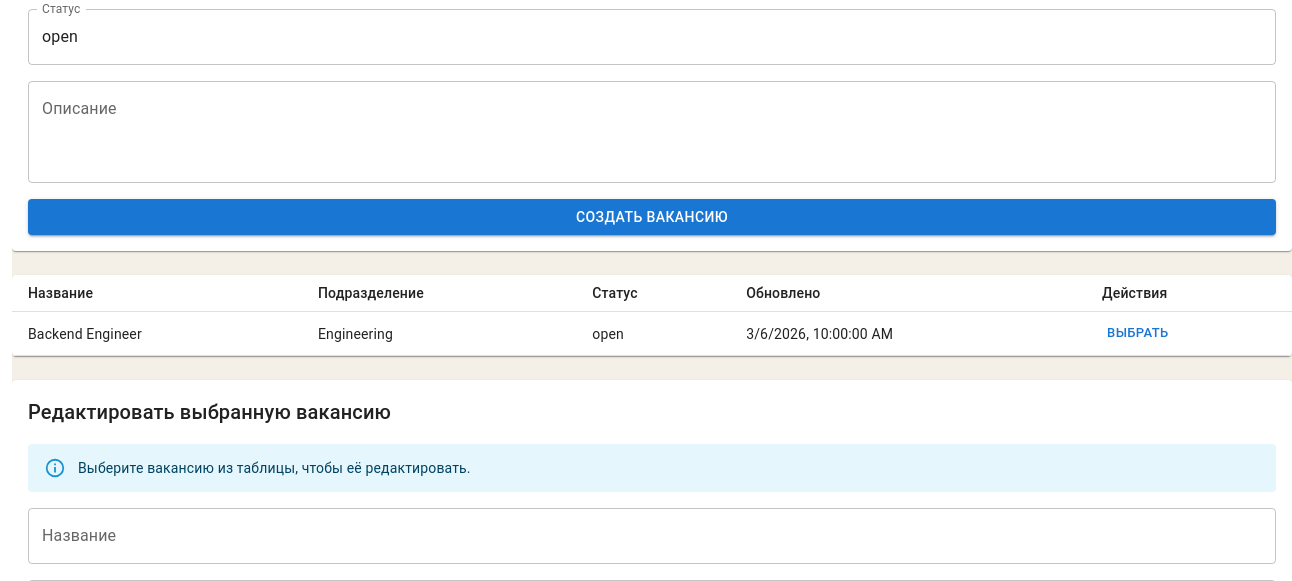
Test: HrDashboardPage › renders localized invalid transition error
(page scrolled)
Step 1. Click the button "Выбрать" → (1138, 334), box [1102,318,1174,349]
(page scrolled)
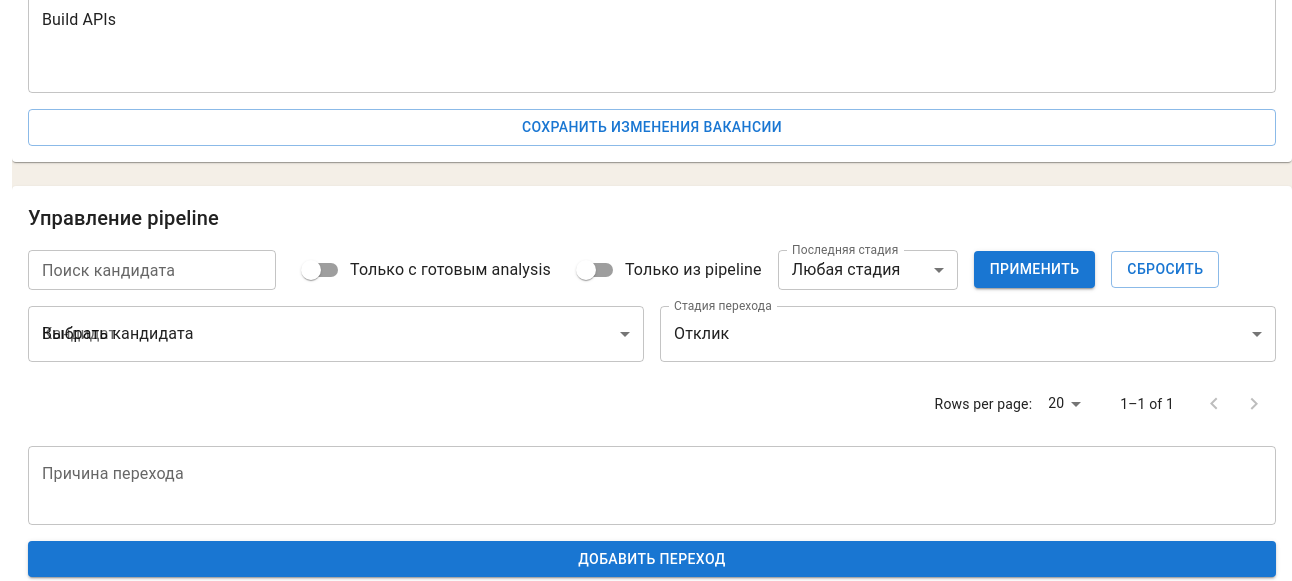
Step 2. Select "John Doe (john@example.com)" in the dropdown labelled "Кандидат" → (336, 334), box [28,306,644,362]
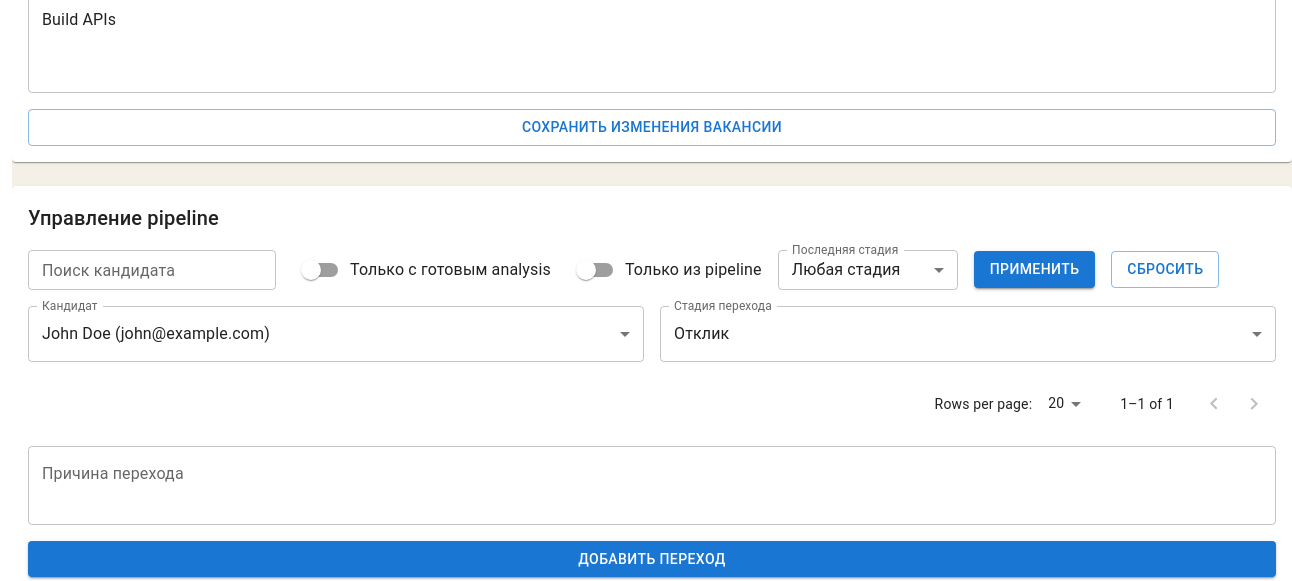
Step 3. Select "Оффер" in the dropdown labelled "Стадия перехода" → (968, 334), box [660,306,1276,362]
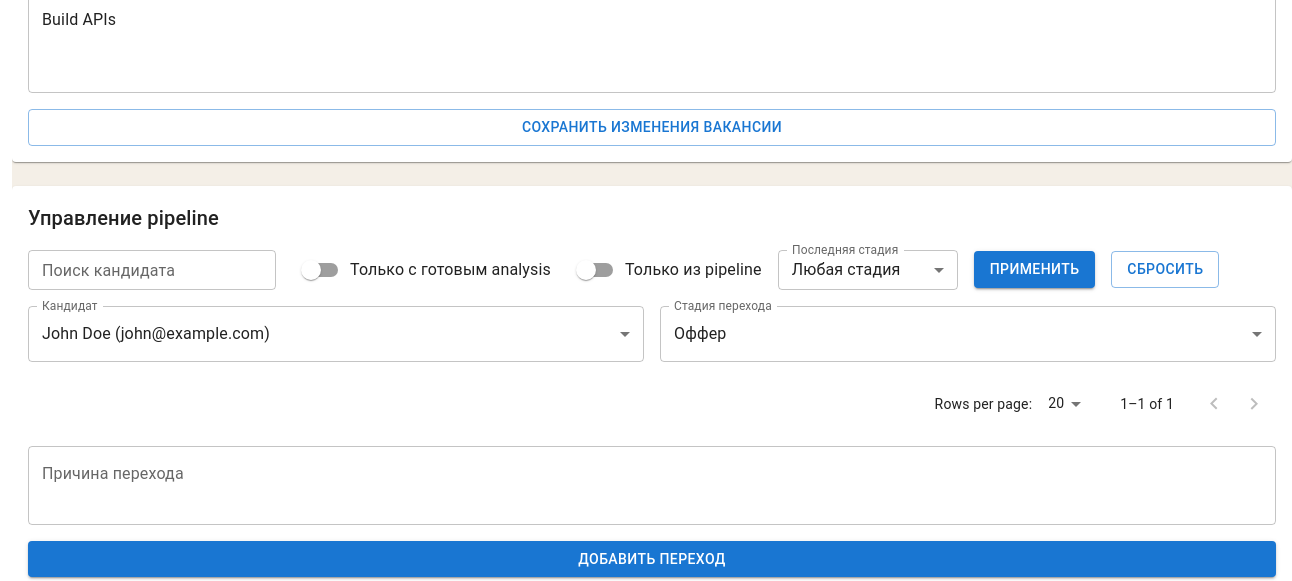
Step 4. Click the button "Добавить переход" → (652, 559), box [28,540,1276,577]
(page scrolled)
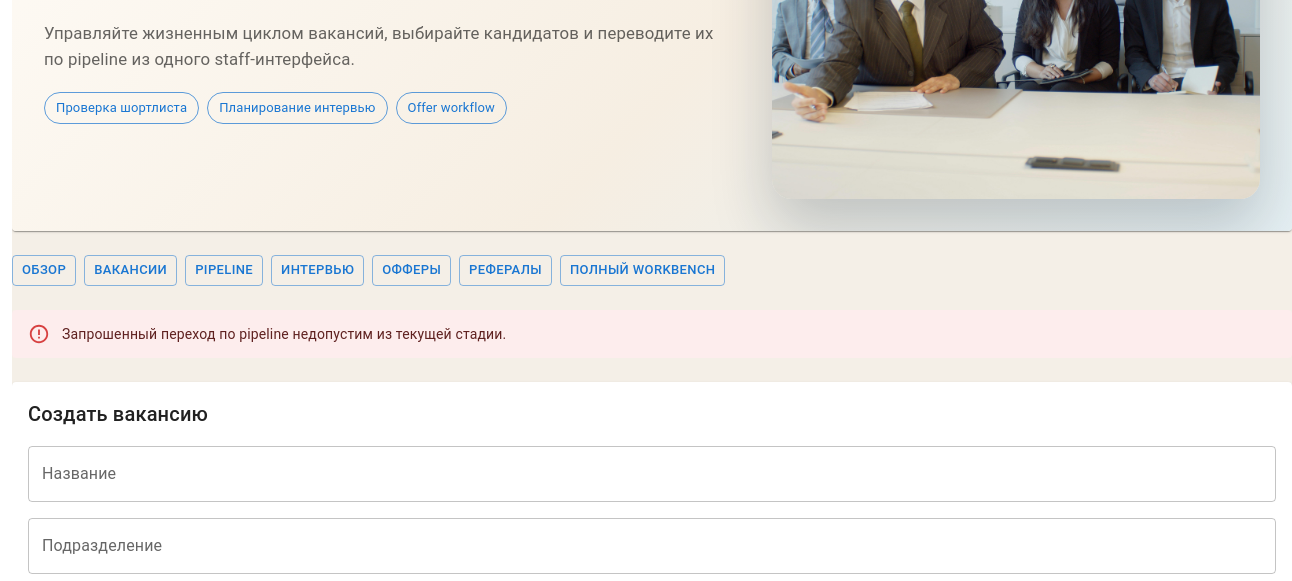
expect the text "Запрошенный переход по pipeline недопустим" is shown: met, box [62,326,506,342]
